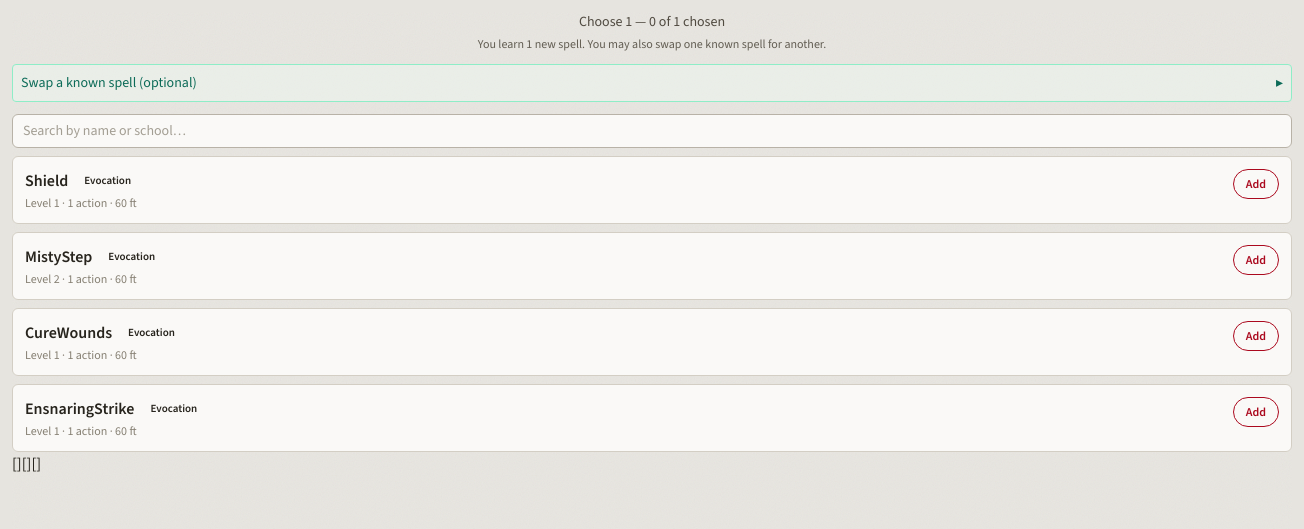
Scenario: NewSpellsStep — swap panel visibility (#1101) › shows a collapsed disclosure that lists only swappable spells once expanded
Expected: the button "OldChant" is not shown
Click the button "Swap a known spell (optional) ▸" at [43, 82], box [21,73,1283,93]
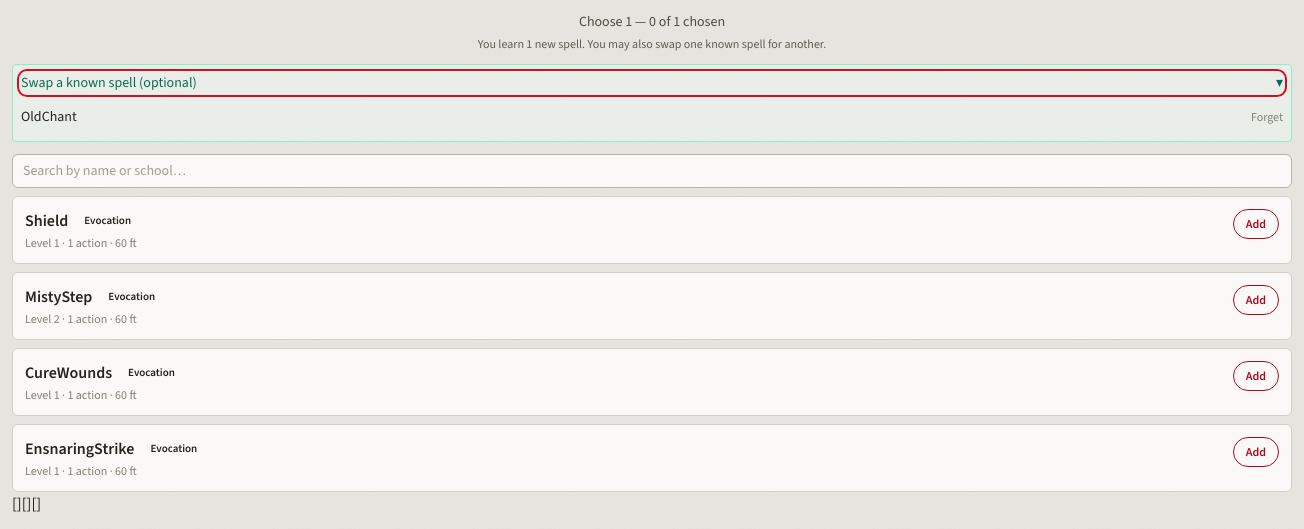
Expected: the button "OldChant Forget" is shown, [21,101,1283,133]
